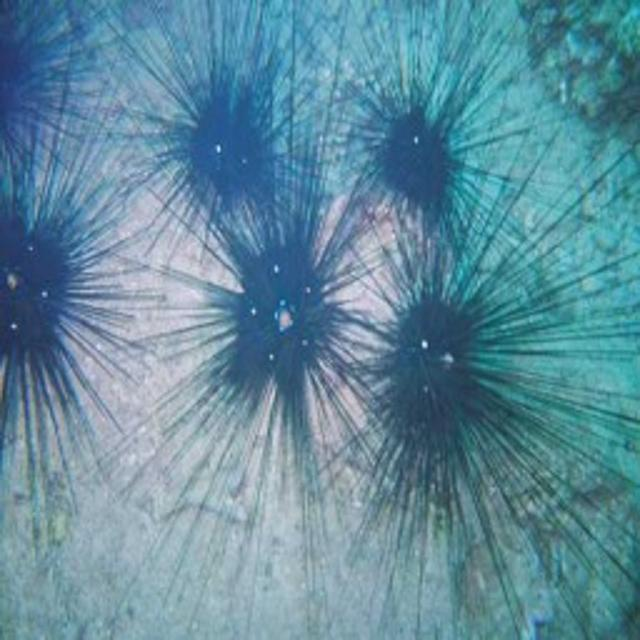Urchin: (126, 158, 387, 586), (319, 197, 611, 557), (317, 16, 551, 249), (121, 1, 328, 227), (1, 103, 122, 486)
